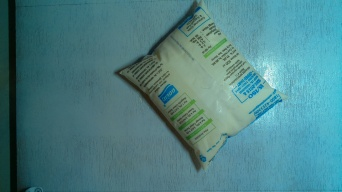m: (113, 2, 291, 174)
